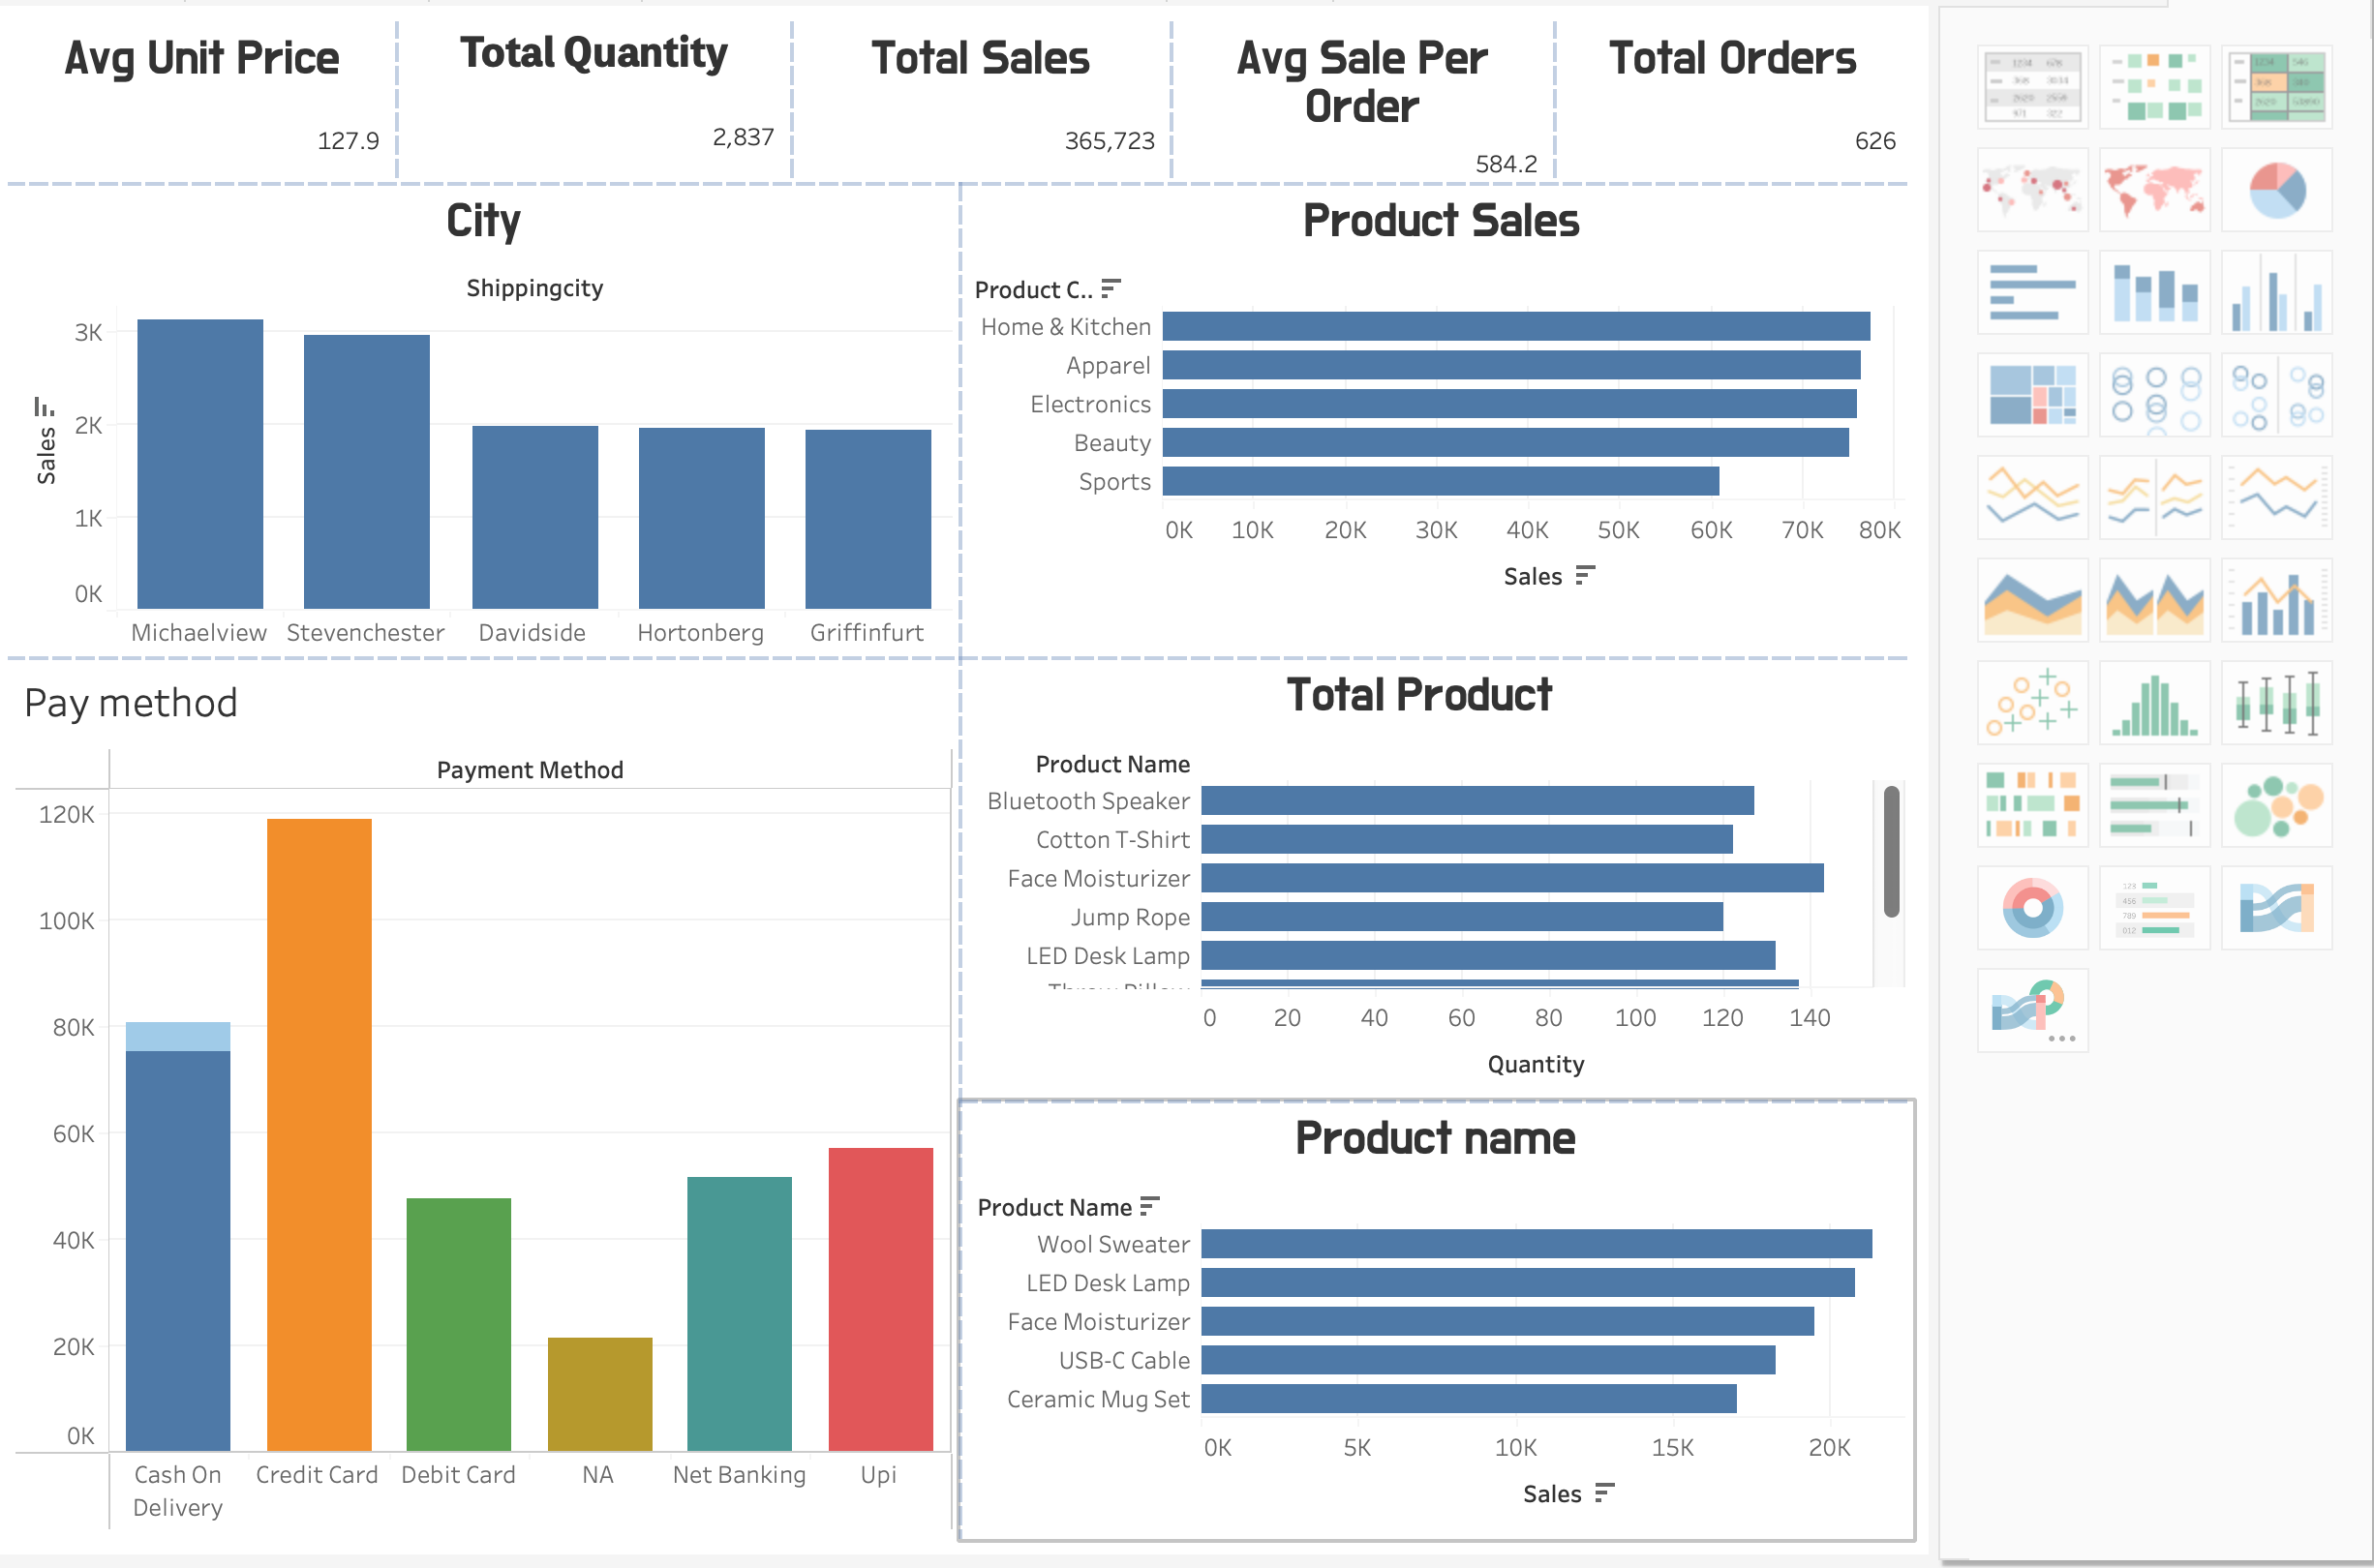

What the dashboard file says about the page in this screenshot:
{"tool":"tableau","page":{"name":"Dashboard 1","canvas":[1000,800],"ordinal":0},"visuals":[{"type":"worksheet","title":"AVG UP","mark":"Automatic","box":[8,8,213,105]},{"type":"worksheet","title":"Total Quantity","mark":"Automatic","box":[221,8,219,105]},{"type":"worksheet","title":"Total Sales","mark":"Automatic","box":[440,8,189,105]},{"type":"worksheet","title":"Avg Sale","mark":"Automatic","box":[629,8,178,105]},{"type":"worksheet","title":"TOTAL ORDER","mark":"Automatic","box":[807,8,185,105]},{"type":"worksheet","title":"City","mark":"Automatic","rows":["Sales"],"cols":["Shippingcity"],"box":[8,113,492,268]},{"type":"worksheet","title":"Product Sales","mark":"Automatic","rows":["ProductCategory"],"cols":["Sales"],"box":[500,113,492,224]},{"type":"worksheet","title":"Top prod","mark":"Bar","rows":["ProductName"],"cols":["Quantity"],"box":[500,337,492,229]},{"type":"worksheet","title":"Pay method","mark":"Bar","rows":["Sales","Quantity"],"cols":["PaymentMethod"],"box":[8,381,492,411]},{"type":"worksheet","title":"Pro name","mark":"Automatic","rows":["ProductName"],"cols":["Sales"],"box":[500,566,492,226]}]}

Visuals, with their boxes on the page's 1000x800 design canvas (x1, y1, x2, y2). These are canvas units, not pixel positions in the 2374x1568 screenshot, which may show the page scaled, cropped or inside an application window:
"AVG UP" worksheet: 8,8,221,113
"Total Quantity" worksheet: 221,8,440,113
"Total Sales" worksheet: 440,8,629,113
"Avg Sale" worksheet: 629,8,807,113
"TOTAL ORDER" worksheet: 807,8,992,113
"City" worksheet: 8,113,500,381
"Product Sales" worksheet: 500,113,992,337
"Top prod" worksheet (Bar marks): 500,337,992,566
"Pay method" worksheet (Bar marks): 8,381,500,792
"Pro name" worksheet: 500,566,992,792
